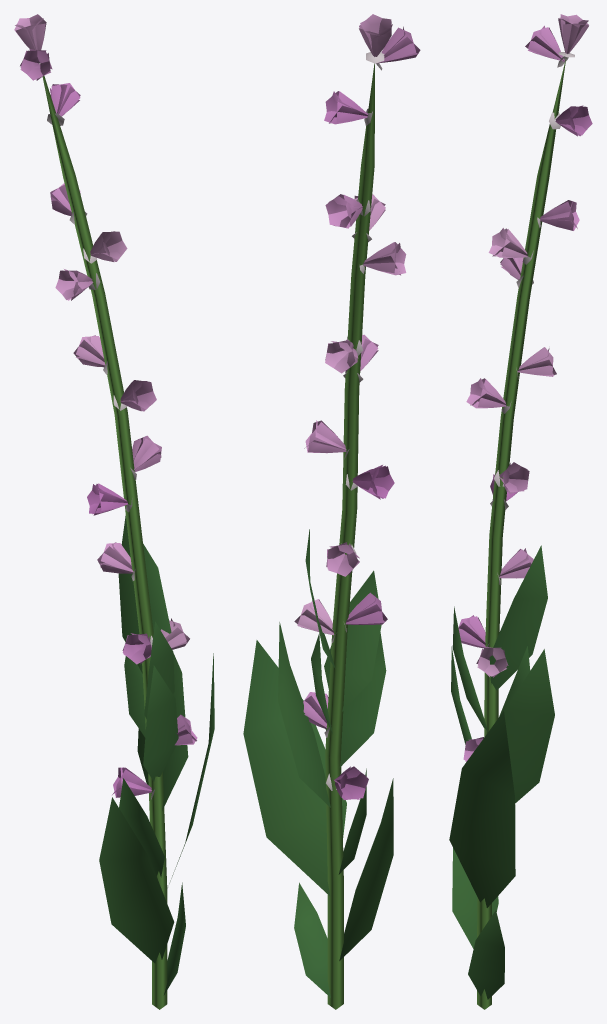
Rendered from foxglove.glb.
3 renders of one model, left to right at view 1: azimuth 30°, elevation 25°; view 2: azimuth 150°, elevation 25°; view 3: azimuth 270°, elevation 25°, orthographic. The views are drawn at different scales.
Parts seen in each view (by area): view 1: foxglove; view 2: foxglove; view 3: foxglove.
Boxes of the visible parts, box(x1,y1,x2,y2) form: foxglove: box(14, 14, 214, 1009); foxglove: box(243, 14, 420, 1009); foxglove: box(449, 14, 592, 1009).
Size of the model in its own units: 0.2091 by 1.08 by 0.1479.
